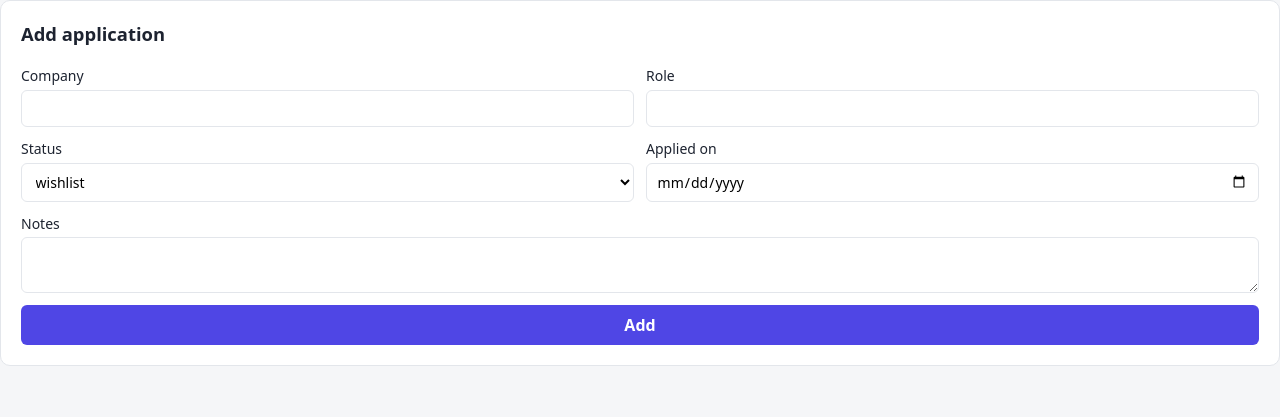
Test: <ApplicationForm /> › shows an error and does not submit when required fields are empty
The width and height of the screenshot is (1280, 417).
Click the button "Add" at (640, 325), box [21,305,1259,345]
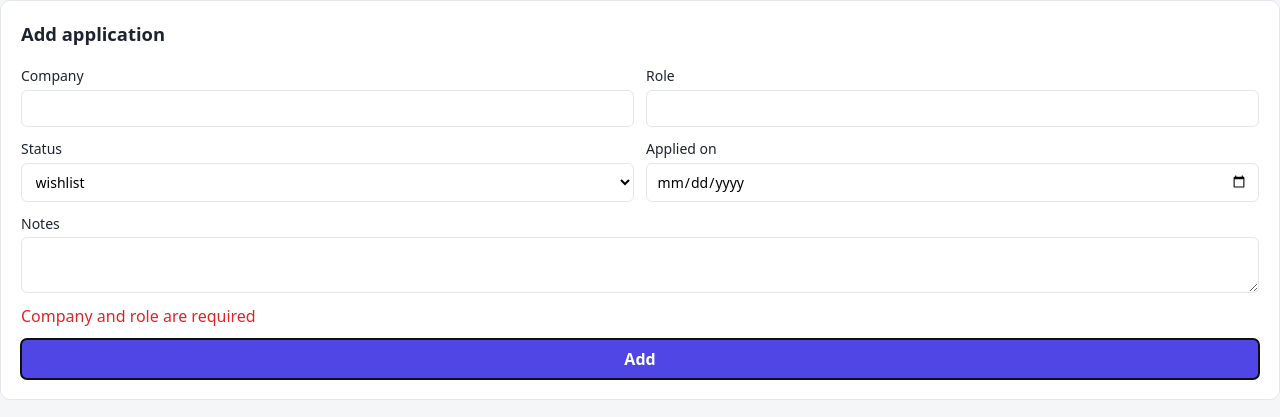
Check: the message reads "Company and role are required", box [21,305,256,327]
